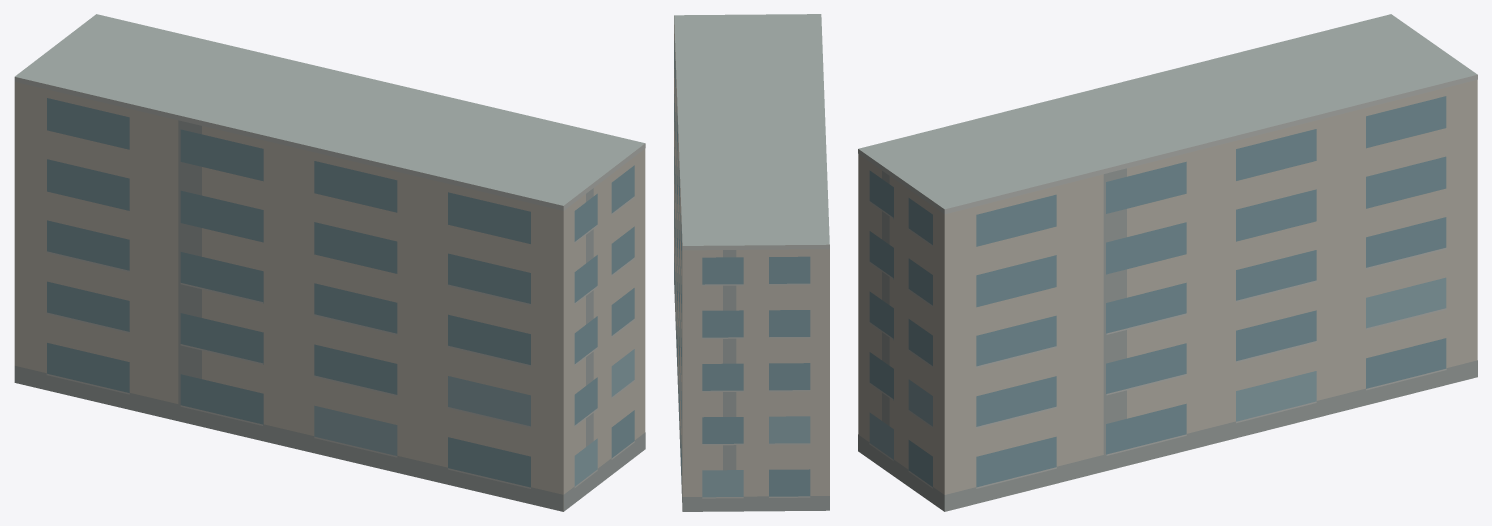
The model's file is survey-upis-32714548.glb.
3 views of the same model, side by side, from view 1: azimuth 30°, elevation 25°; view 2: azimuth 150°, elevation 25°; view 3: azimuth 270°, elevation 25° (orthographic). The views are drawn at different scales.
Parts seen in each view (by area): view 1: survey-upis-32714548.tmp; view 2: survey-upis-32714548.tmp; view 3: survey-upis-32714548.tmp.
Boxes of the visible parts, x1=… form: survey-upis-32714548.tmp: x1=14, y1=14, x2=645, y2=511; survey-upis-32714548.tmp: x1=674, y1=14, x2=829, y2=511; survey-upis-32714548.tmp: x1=858, y1=14, x2=1477, y2=511.
Bounding box in the file's own units: 20.51 × 14.8 × 27.48.
